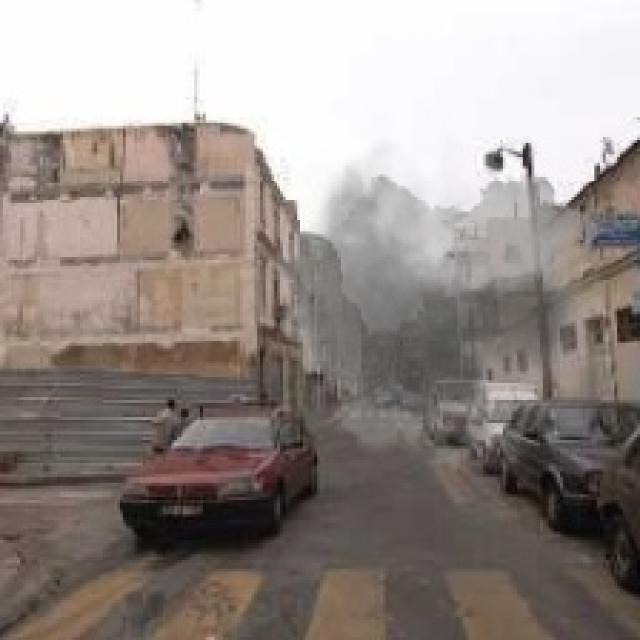smoke: (257, 94, 609, 492)
